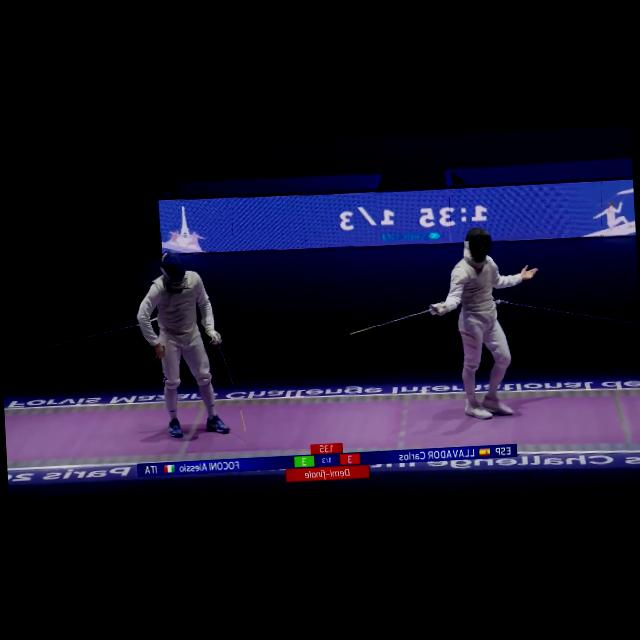blade: (209, 332, 254, 441), (336, 299, 444, 342)
